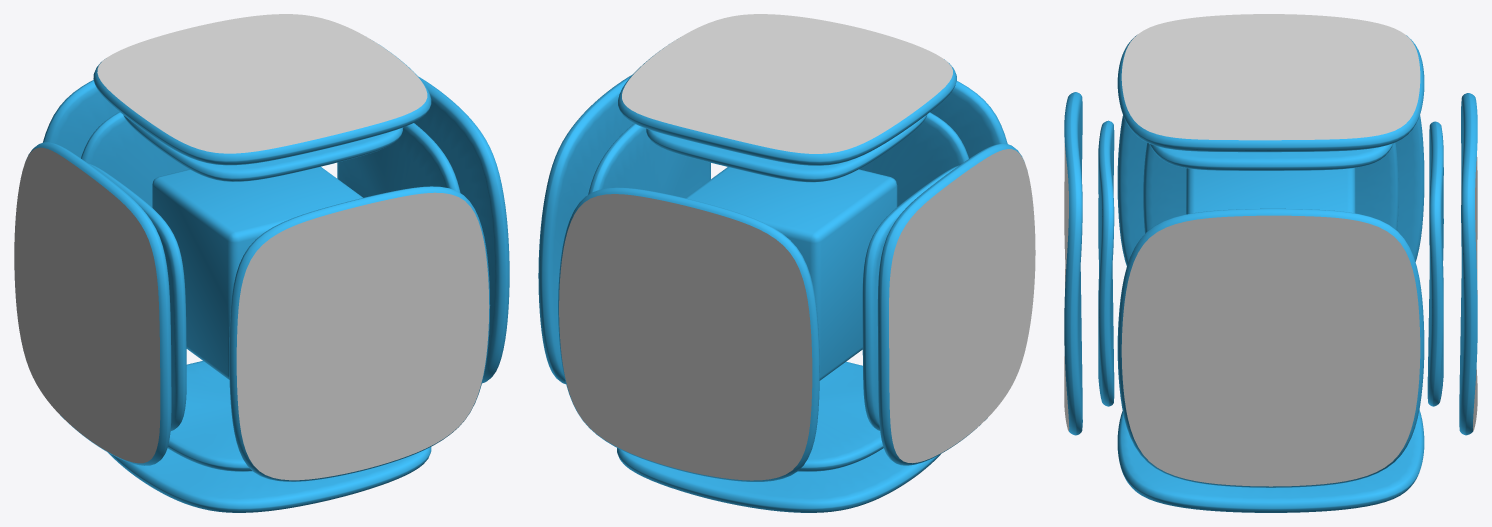
3 renders of one model, left to right at view 1: azimuth 30°, elevation 25°; view 2: azimuth 150°, elevation 25°; view 3: azimuth 270°, elevation 25°, orthographic. The views are drawn at different scales.
Visible parts, largest first — view 1: f2, f1, Outer Shell, f5, Inner Shell, CORE; view 2: f4, f1, Outer Shell, f5, Inner Shell, CORE; view 3: f3, Outer Shell, f5, Inner Shell, CORE, f2, f4.
Part boxes in pixels (<box>): f2: <box>236,192,489,480</box>; f1: <box>14,147,160,463</box>; Outer Shell: <box>27,44,509,512</box>; f5: <box>97,14,427,153</box>; Inner Shell: <box>81,112,460,471</box>; CORE: <box>152,166,362,379</box>; f4: <box>559,194,812,480</box>; f1: <box>889,149,1035,463</box>; Outer Shell: <box>538,44,1024,512</box>; f5: <box>622,14,952,153</box>; Inner Shell: <box>588,112,968,471</box>; CORE: <box>685,167,897,380</box>; f3: <box>1121,215,1420,486</box>; Outer Shell: <box>1064,35,1477,512</box>; f5: <box>1121,14,1420,140</box>; Inner Shell: <box>1098,120,1443,406</box>; CORE: <box>1186,167,1355,214</box>; f2: <box>1064,143,1069,430</box>; f4: <box>1473,156,1477,430</box>.
Size of the model in its own units: 8.56 by 8.49 by 8.56.
